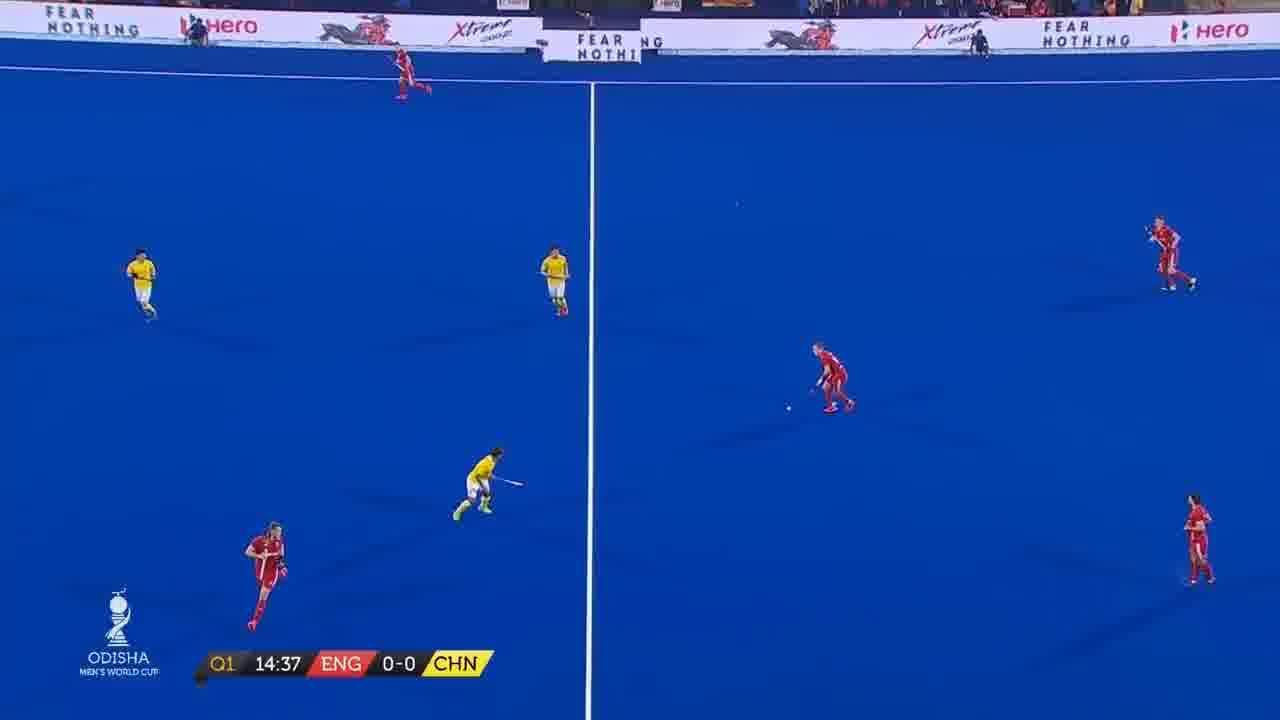ball: (780, 402, 802, 417)
